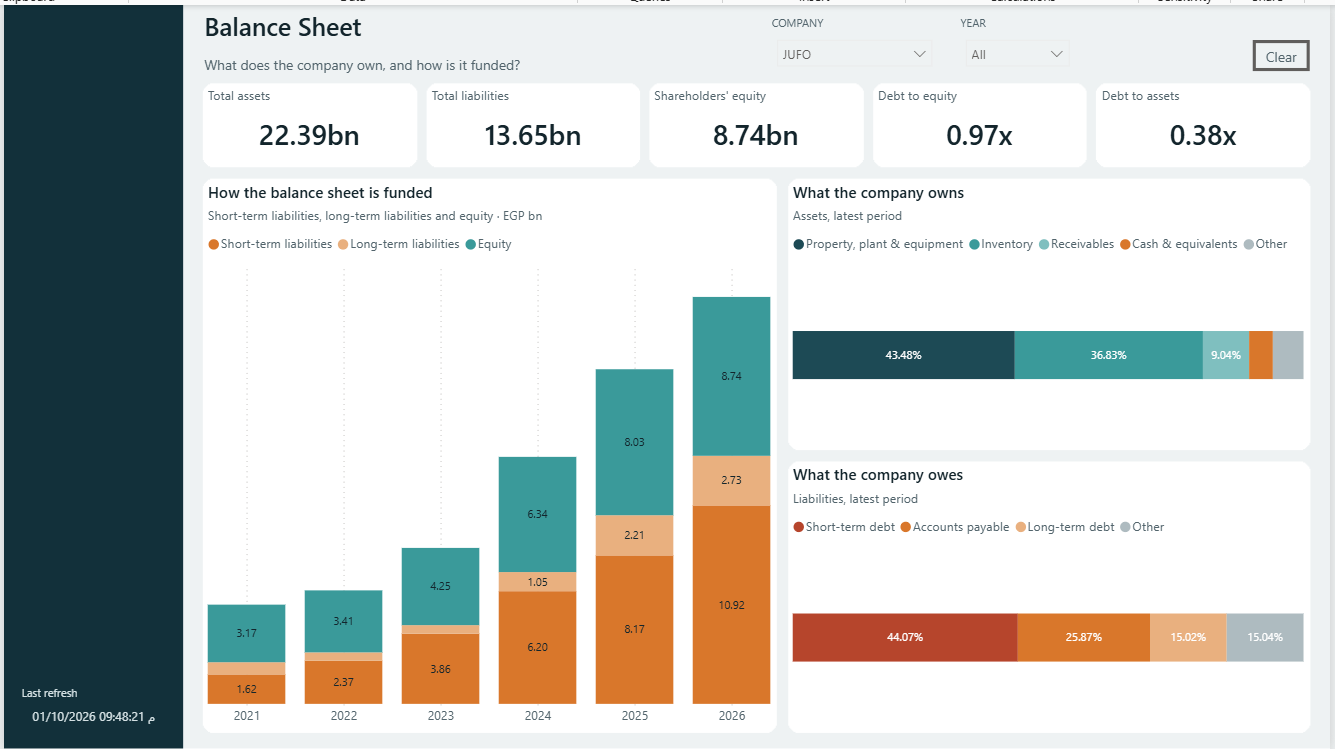

This screenshot's page, from the dashboard's own definition file:
{"tool":"powerbi","page":{"name":"Balance Sheet","canvas":[1280,720],"ordinal":2},"visuals":[{"type":"card","title":"Total assets","fields":{"Values":["Measures List.Total Assets (card)"]},"box":[192,78,206,80],"z":10},{"type":"card","title":"Total liabilities","fields":{"Values":["Measures List.Total Liabilities (card)"]},"box":[408,78,206,80],"z":11},{"type":"card","title":"Shareholders' equity","fields":{"Values":["Measures List.Total Equity (card)"]},"box":[623,78,206,80],"z":12},{"type":"card","title":"Debt to equity","fields":{"Values":["Measures List.Debt to Equity (card)"]},"box":[839,78,206,80],"z":13},{"type":"card","title":"Debt to assets","fields":{"Values":["Measures List.Debt to Assets (card)"]},"box":[1054,78,206,80],"z":14},{"type":"columnChart","title":"How the balance sheet is funded","fields":{"Category":["DimDate.Year"],"Y":["Measures List.Total Current Liabilities (chart)","Measures List.Long-Term Liabilities (chart)","Measures List.Total Equity (chart)"]},"box":[192,170,553,534],"z":20},{"type":"hundredPercentStackedBarChart","title":"What the company owns","fields":{"Y":["Measures List.PP&E (fixed) (chart)","Measures List.Inventory (chart)","Measures List.AR (chart)","Measures List.Cash & Equivalents (chart)","Measures List.Other Assets (chart)"]},"box":[757,170,503,261],"z":21},{"type":"hundredPercentStackedBarChart","title":"What the company owes","fields":{"Y":["Measures List.Short-Term Debt (chart)","Measures List.AP (chart)","Measures List.Long-Term Debt (chart)","Measures List.Other Liabilities (chart)"]},"box":[757,443,503,261],"z":22},{"type":"pageNavigator","box":[12,38,150,270],"z":50},{"type":"card","title":"Last refresh","fields":{"Values":["Max(Last Refreash.Date)"]},"box":[12,656,150,52],"z":51},{"type":"textbox","box":[188,0,540,46],"z":52},{"type":"textbox","box":[188,44,540,30],"z":53},{"type":"slicer","title":"COMPANY","fields":{"Values":["FactFinancials.Company"]},"box":[736,10,170,56],"z":54},{"type":"slicer","title":"YEAR","fields":{"Values":["DimDate.Year"]},"box":[918,10,120,56],"z":55},{"type":"actionButton","box":[1205,34,55,30],"z":56}]}

Visuals, with their boxes on the page's 1280x720 design canvas (x1, y1, x2, y2). These are canvas units, not pixel positions in the 1335x749 screenshot, which may show the page scaled, cropped or inside an application window:
"Total assets" card: l=192, t=78, r=398, b=158
"Total liabilities" card: l=408, t=78, r=614, b=158
"Shareholders' equity" card: l=623, t=78, r=829, b=158
"Debt to equity" card: l=839, t=78, r=1045, b=158
"Debt to assets" card: l=1054, t=78, r=1260, b=158
"How the balance sheet is funded" columnChart: l=192, t=170, r=745, b=704
"What the company owns" hundredPercentStackedBarChart: l=757, t=170, r=1260, b=431
"What the company owes" hundredPercentStackedBarChart: l=757, t=443, r=1260, b=704
pageNavigator: l=12, t=38, r=162, b=308
"Last refresh" card: l=12, t=656, r=162, b=708
textbox: l=188, t=0, r=728, b=46
textbox: l=188, t=44, r=728, b=74
"COMPANY" slicer: l=736, t=10, r=906, b=66
"YEAR" slicer: l=918, t=10, r=1038, b=66
actionButton: l=1205, t=34, r=1260, b=64
